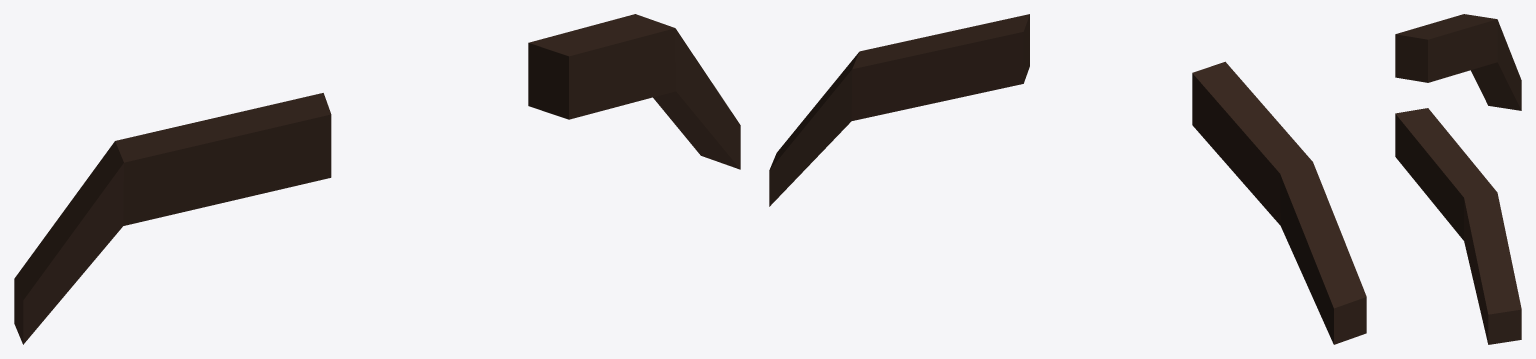
Rendered from SadEyebrowsF.glb.
3 renders of one model, left to right at view 1: azimuth 30°, elevation 25°; view 2: azimuth 150°, elevation 25°; view 3: azimuth 270°, elevation 25°, orthographic. The views are drawn at different scales.
Visible parts, largest first — view 1: SadEyebrowsF.001; view 2: SadEyebrowsF.001; view 3: SadEyebrowsF.001.
Boxes of the visible parts, bbox=[...] form: SadEyebrowsF.001: bbox=[14, 14, 740, 344]; SadEyebrowsF.001: bbox=[769, 14, 1366, 344]; SadEyebrowsF.001: bbox=[1395, 14, 1521, 344].
Bounding box in the file's own units: 1.59 × 0.4696 × 0.3554.
